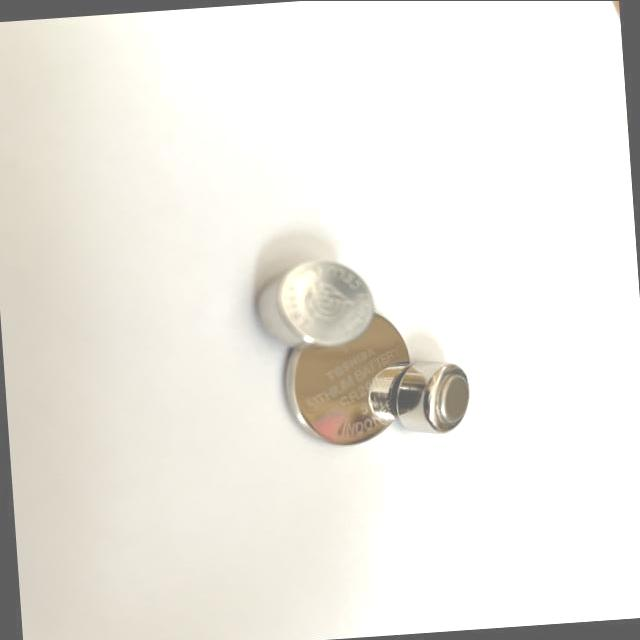COIN: (278, 314, 416, 452), (252, 258, 374, 352), (387, 360, 475, 438)
